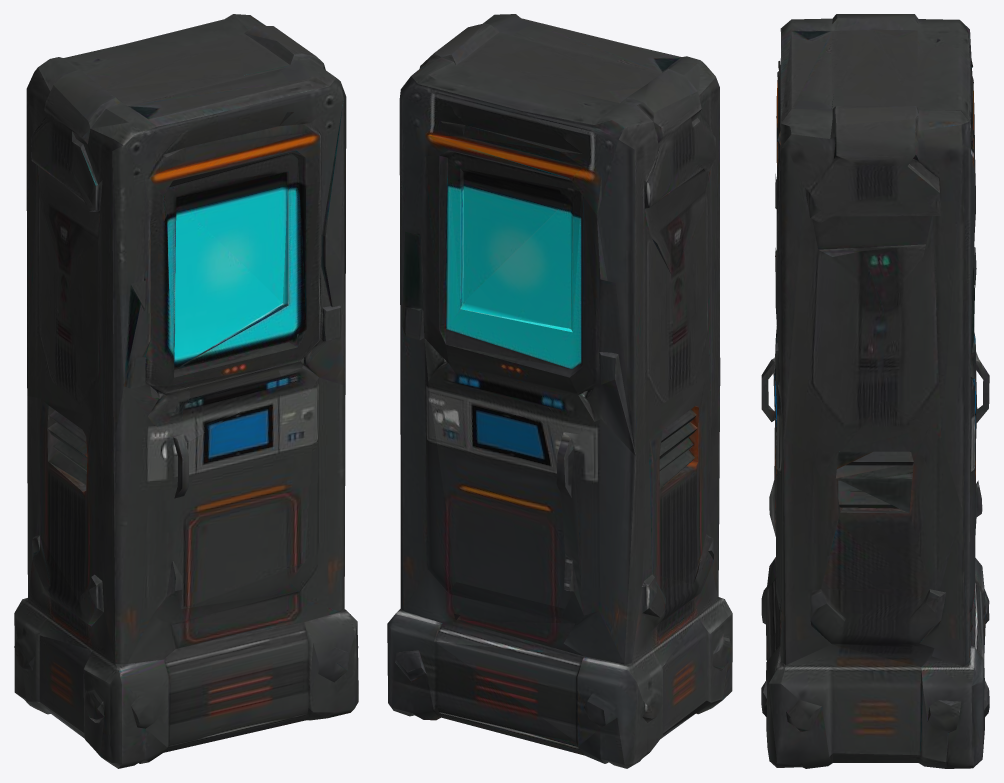
File: BS_Map_SupplyTerminal_final.glb
3 renders of one model, left to right at view 1: azimuth 30°, elevation 25°; view 2: azimuth 150°, elevation 25°; view 3: azimuth 270°, elevation 25°, orthographic.
Size of the model in its own units: 0.807 by 1.9 by 0.6027.
1 material, 1 textured.
